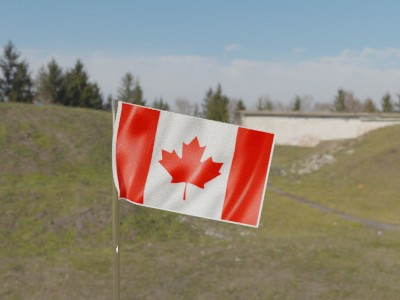Canada flag: (114, 101, 271, 229)
